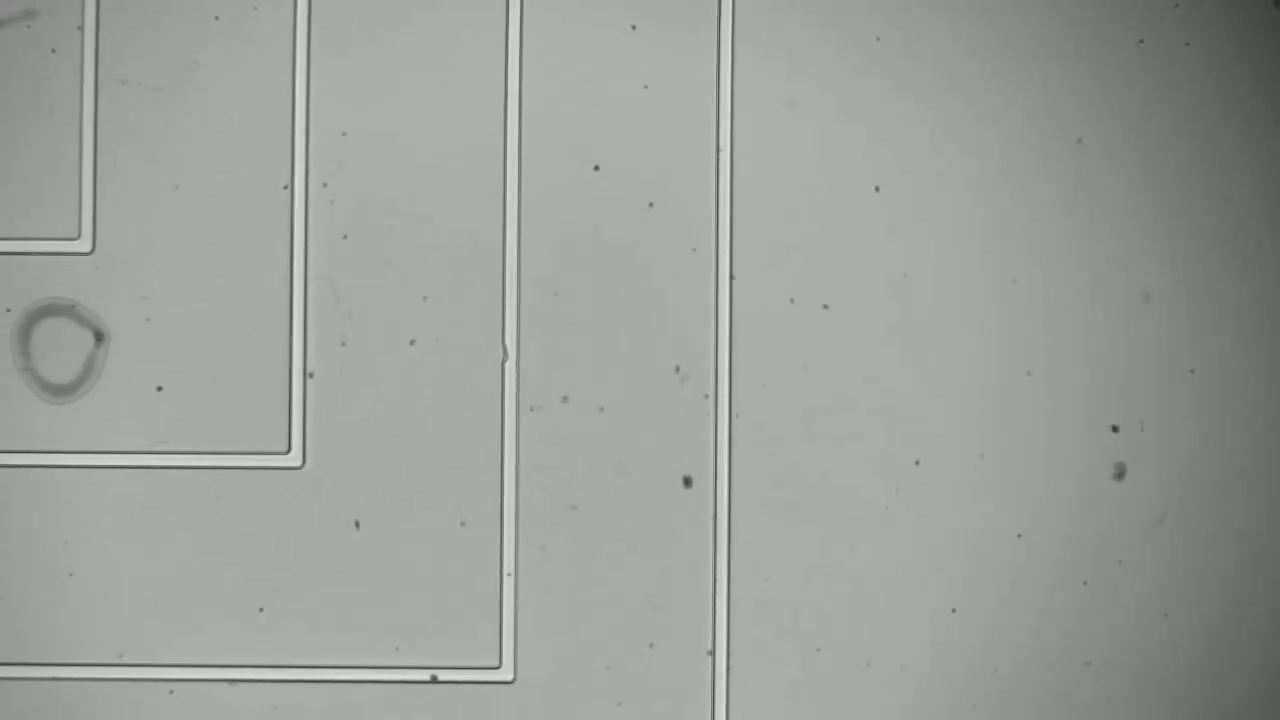edge_bite: (495, 337, 527, 371)
stains_enbedded: (416, 656, 447, 690)
